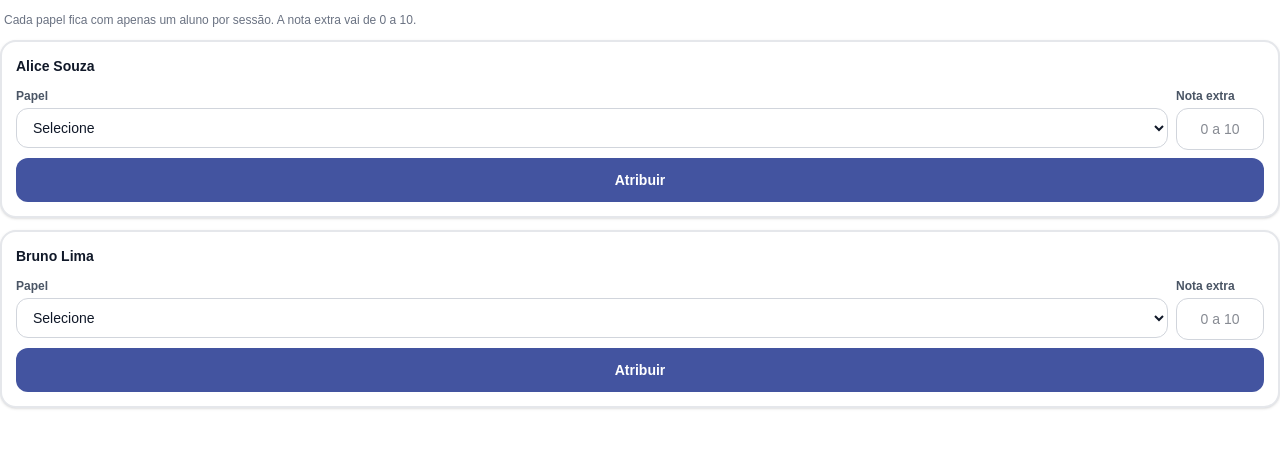
[US10] SessionRoleList › Deve bloquear a atribuição quando a nota extra -0.5 está fora de 0 a 10
The width and height of the screenshot is (1280, 450).
Select "Coordenador" in the dropdown labelled "Papel" below "Bruno Lima" at (592, 318), box left=16, top=298, right=1168, bottom=338
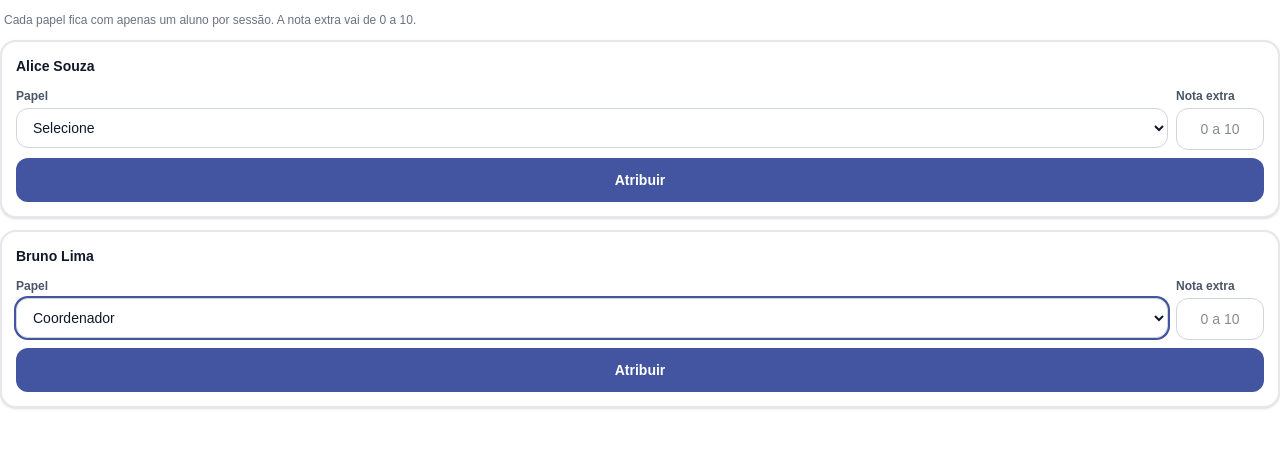
Type "-0.5" into the 2nd field labelled "Nota extra".
click(1220, 319); type("-0.5")  # box left=1176, top=298, right=1264, bottom=340
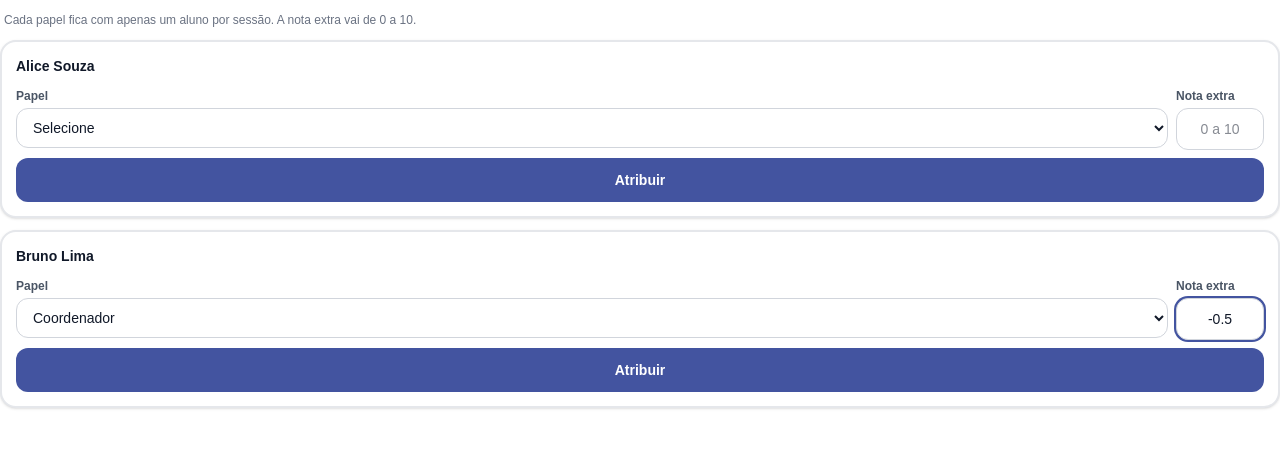
Click the button "Atribuir" below "Bruno Lima".
click(640, 370)  # box left=16, top=348, right=1264, bottom=392
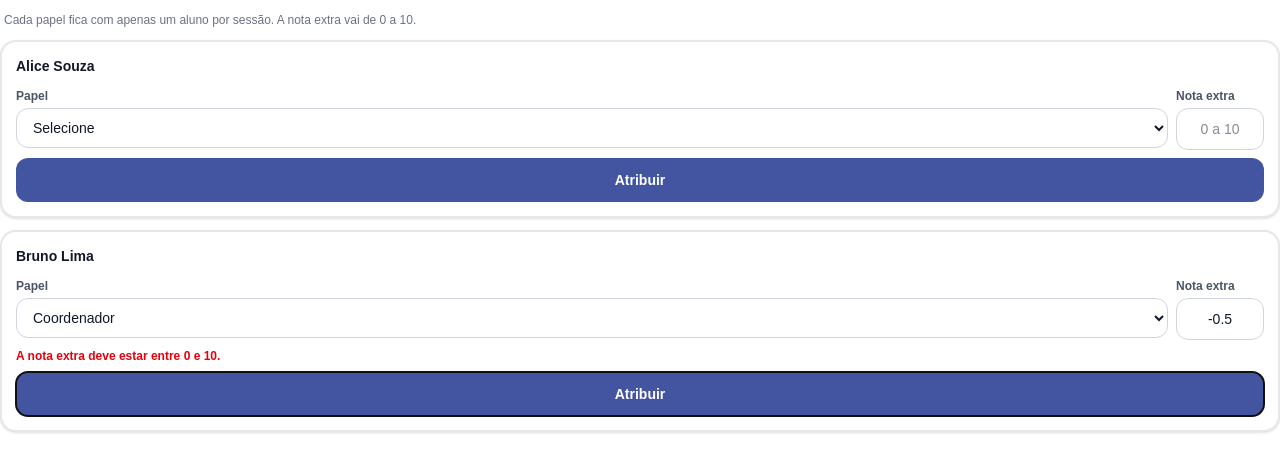
Check: the message shows "nota extra deve estar entre 0 e 10", box left=16, top=349, right=220, bottom=363
